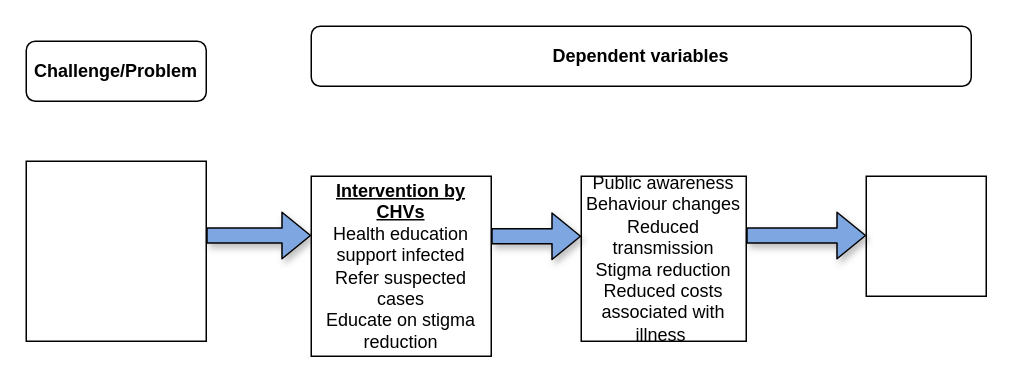
Some shapes in this 1013 by 383 pixel diagram are drawn without their labels. Here are the shapes that lost their labels. From the top down, the centre of each, then its label:
At point (115, 250): "COVID-19 Pandemic Ravaging communities".
At point (925, 235): "Defeated COVID-19 Stable economic status".
